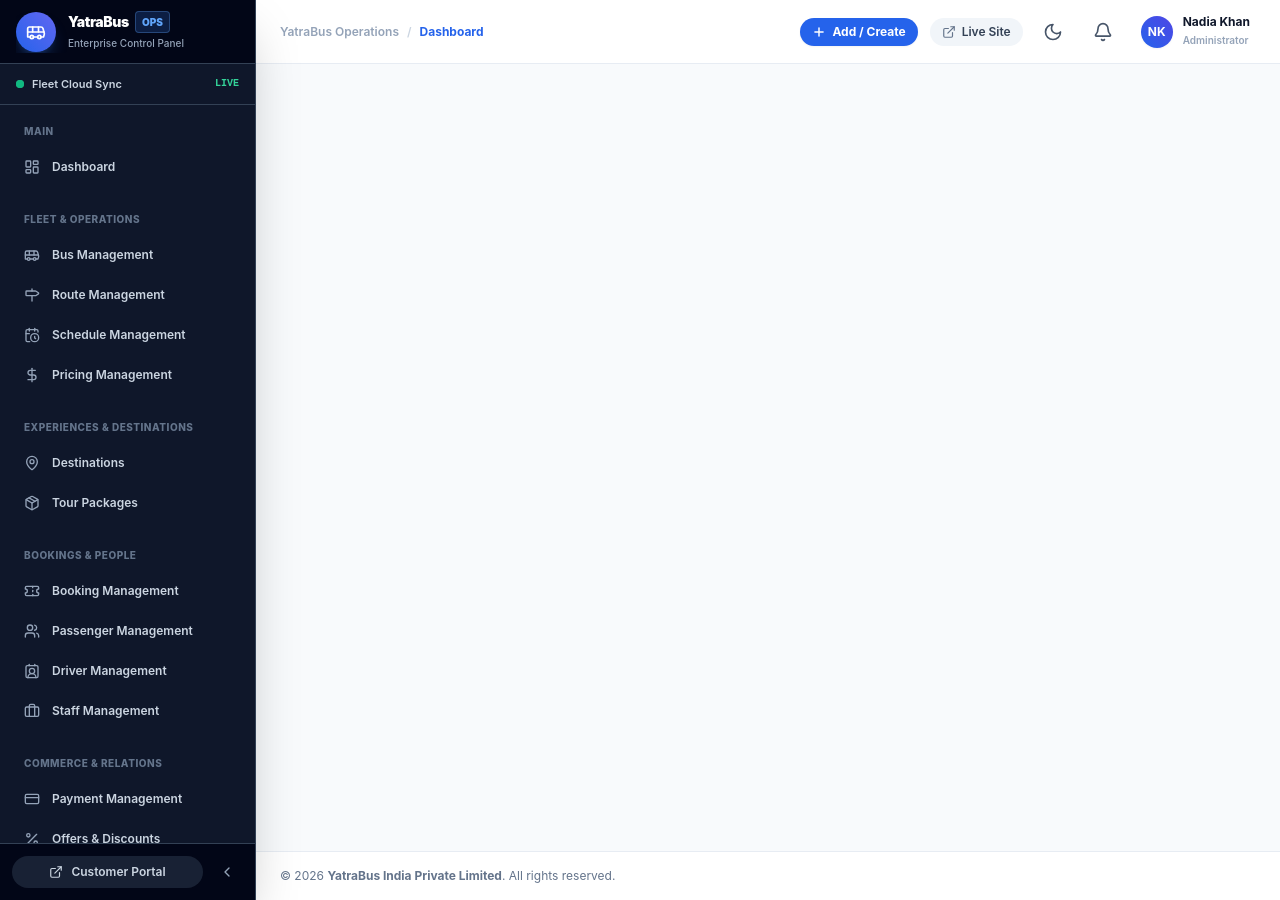
AdminLayout account identity › shows the signed-in admin instead of a platform-wide profile
Expected: the text "Nadia Khan" is shown, [1183,14,1250,28]
Click the button "NK Nadia Khan Administrator". click: (1195, 32)
box: [1135,8,1256,56]
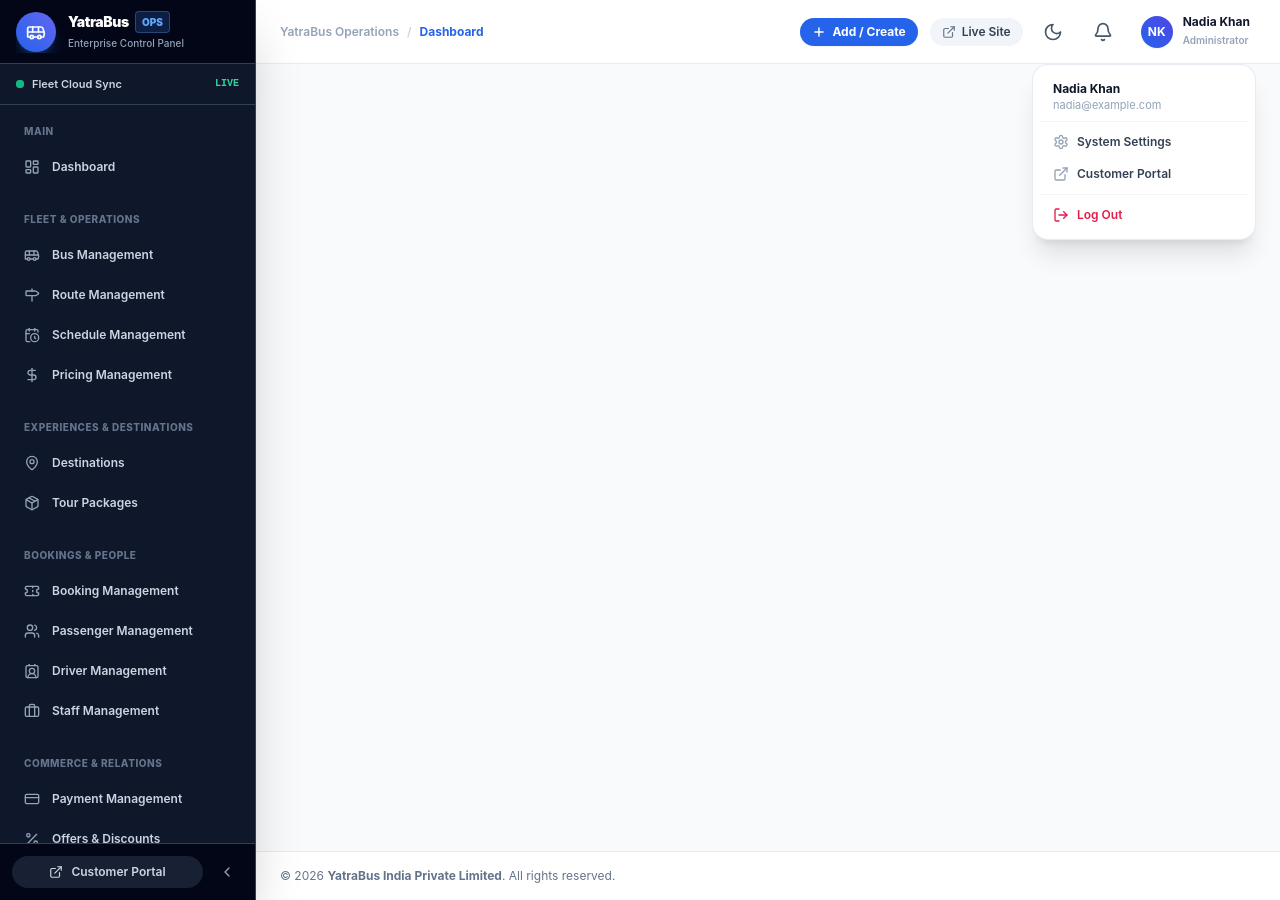
Expected: the text "nadia@example.com" is shown, [1053,98,1161,112]
